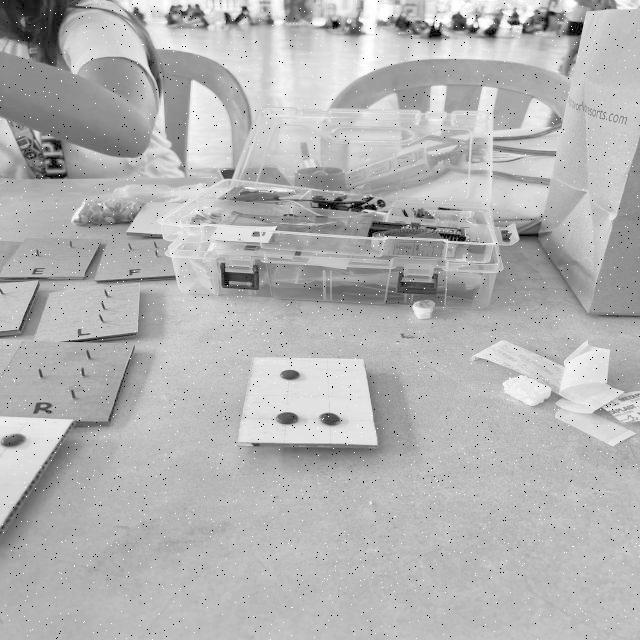U: (237, 355, 377, 443)
